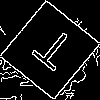T: (24, 25, 78, 80)
